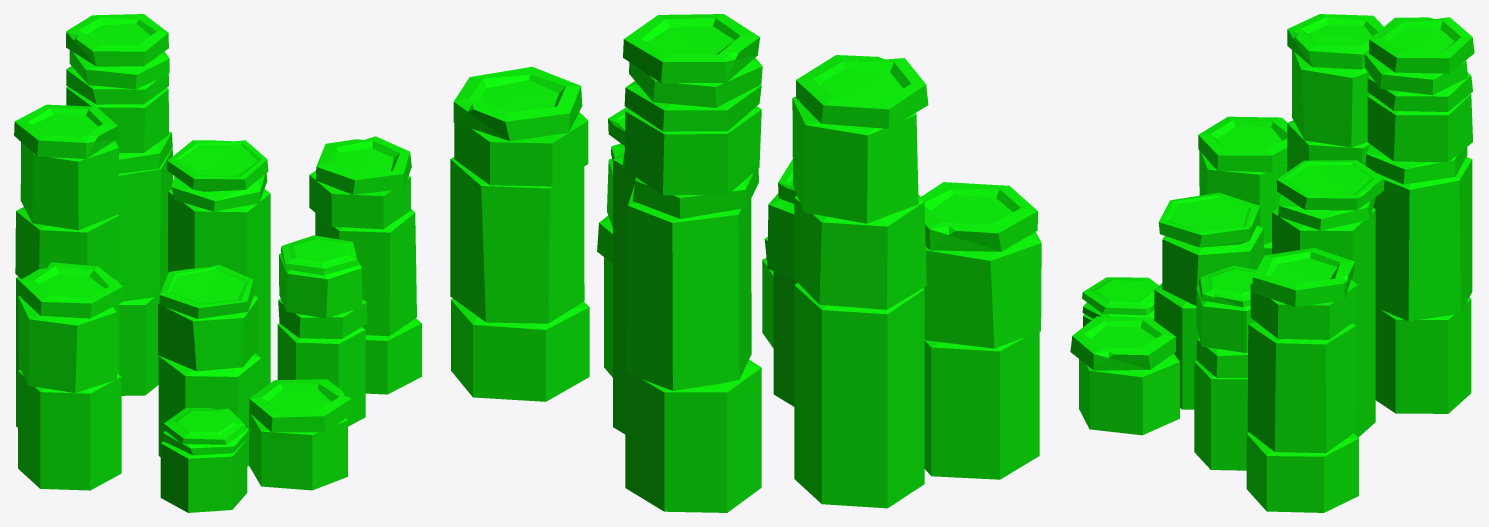
The model's file is SM_Coins_Columns_Fantasy.fbx.
The picture shows the model from 3 angles, left to right: view 1: azimuth 30°, elevation 25°; view 2: azimuth 150°, elevation 25°; view 3: azimuth 270°, elevation 25°; orthographic projection. The views are drawn at different scales.
Parts seen in each view (by area): view 1: coins-columns-fantasy; view 2: coins-columns-fantasy; view 3: coins-columns-fantasy.
Part boxes in pixels (x1=…): coins-columns-fantasy: x1=14, y1=14, x2=421, y2=512; coins-columns-fantasy: x1=450, y1=14, x2=1041, y2=512; coins-columns-fantasy: x1=1070, y1=14, x2=1474, y2=512.
Size of the model in its own units: 0.2194 by 0.1776 by 0.1803.
